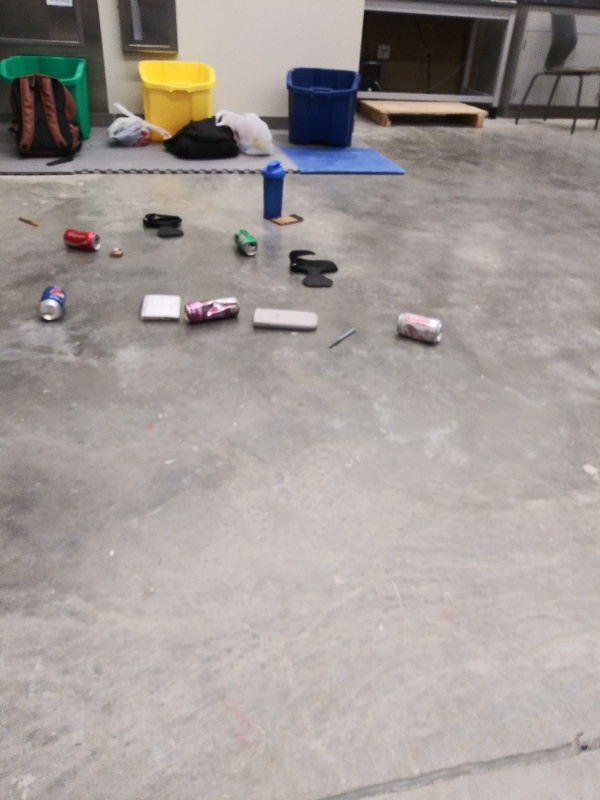can: (392, 308, 448, 349), (178, 295, 243, 323), (35, 284, 71, 322), (62, 227, 103, 253), (231, 225, 261, 258)
